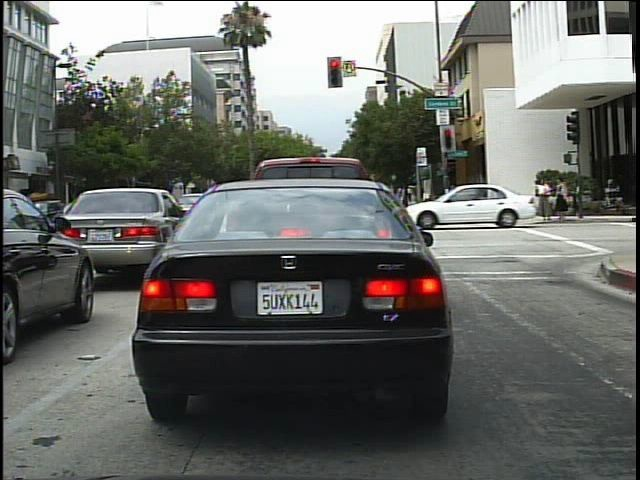person: (535, 170, 557, 223), (552, 172, 574, 221)
